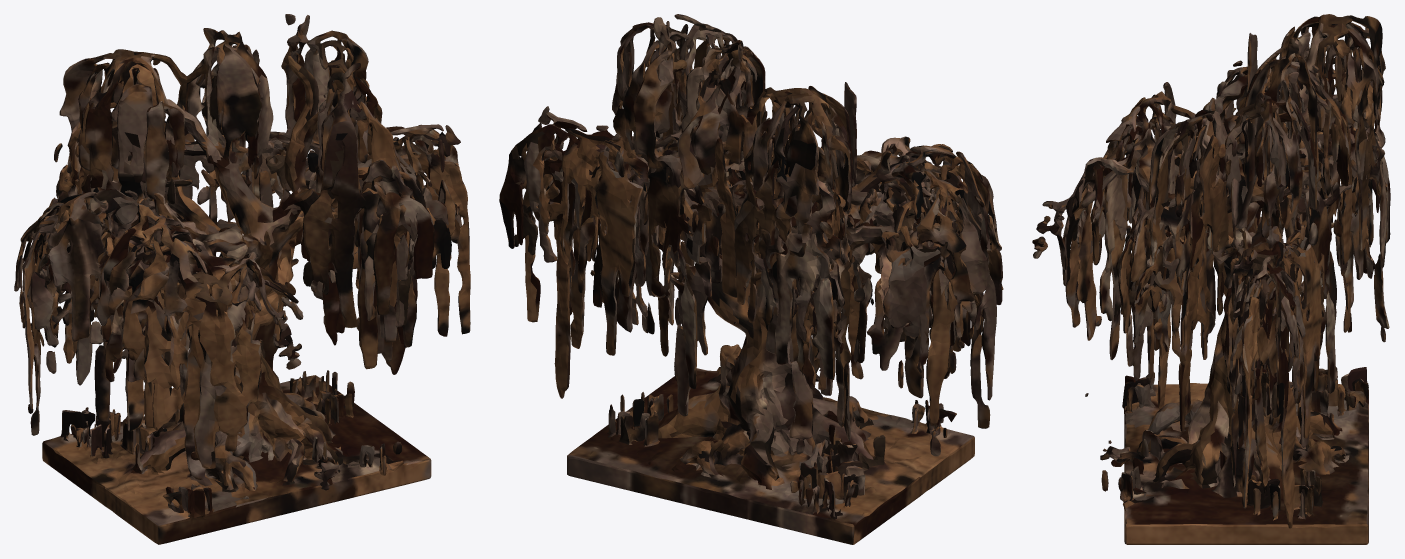
Rendered from swamp_full_tree.obj.
3 renders of one model, left to right at view 1: azimuth 30°, elevation 25°; view 2: azimuth 150°, elevation 25°; view 3: azimuth 270°, elevation 25°, orthographic. The views are drawn at different scales.
Parts seen in each view (by area): view 1: geometry_0; view 2: geometry_0; view 3: geometry_0.
Boxes of the visible parts, x1=… form: geometry_0: x1=14, y1=14, x2=470, y2=544; geometry_0: x1=499, y1=14, x2=1003, y2=544; geometry_0: x1=1032, y1=14, x2=1390, y2=544.
Bounding box in the file's own units: 1 × 0.8811 × 0.6472.
